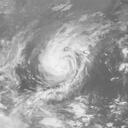cyclone: (38, 37, 88, 83)
